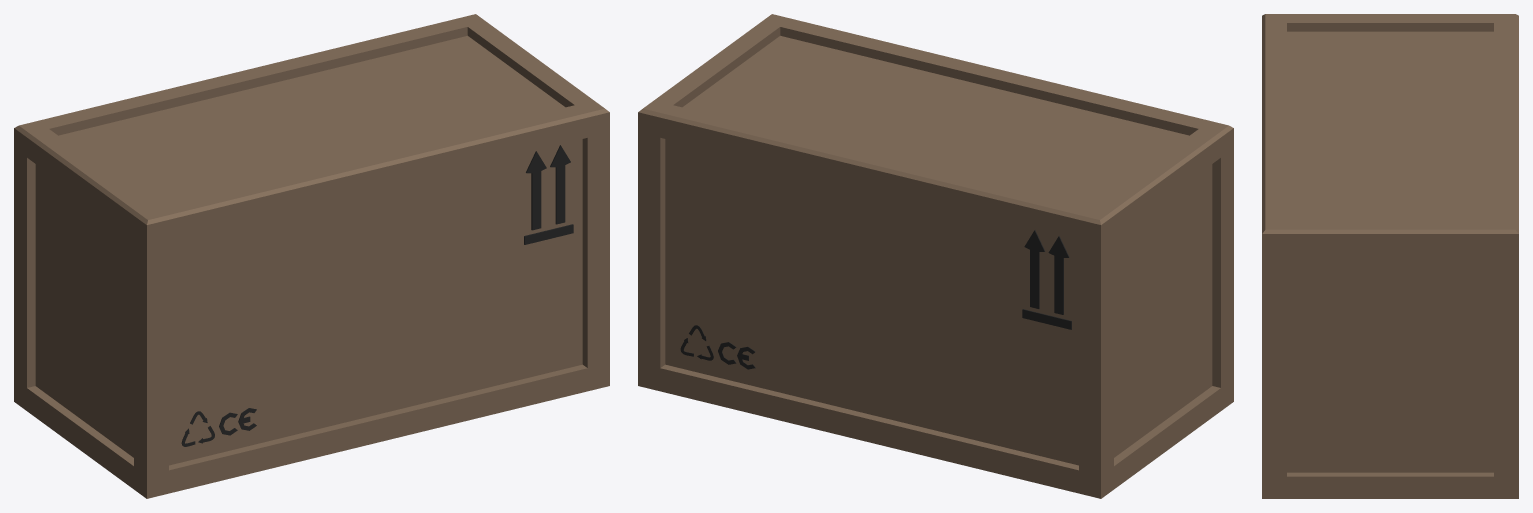
The model's file is props_16.glb.
The picture shows the model from 3 angles, left to right: view 1: azimuth 30°, elevation 25°; view 2: azimuth 150°, elevation 25°; view 3: azimuth 270°, elevation 25°; orthographic projection. The views are drawn at different scales.
Visible parts, largest first — view 1: props_16; view 2: props_16; view 3: props_16.
Boxes of the visible parts, x1,y1,x2,y2 form: props_16: (14,14,609,498); props_16: (638,14,1233,498); props_16: (1262,14,1518,498).
Size of the model in its own units: 3.5 by 2 by 1.74.
Materials: 1 (1 with a texture image).
